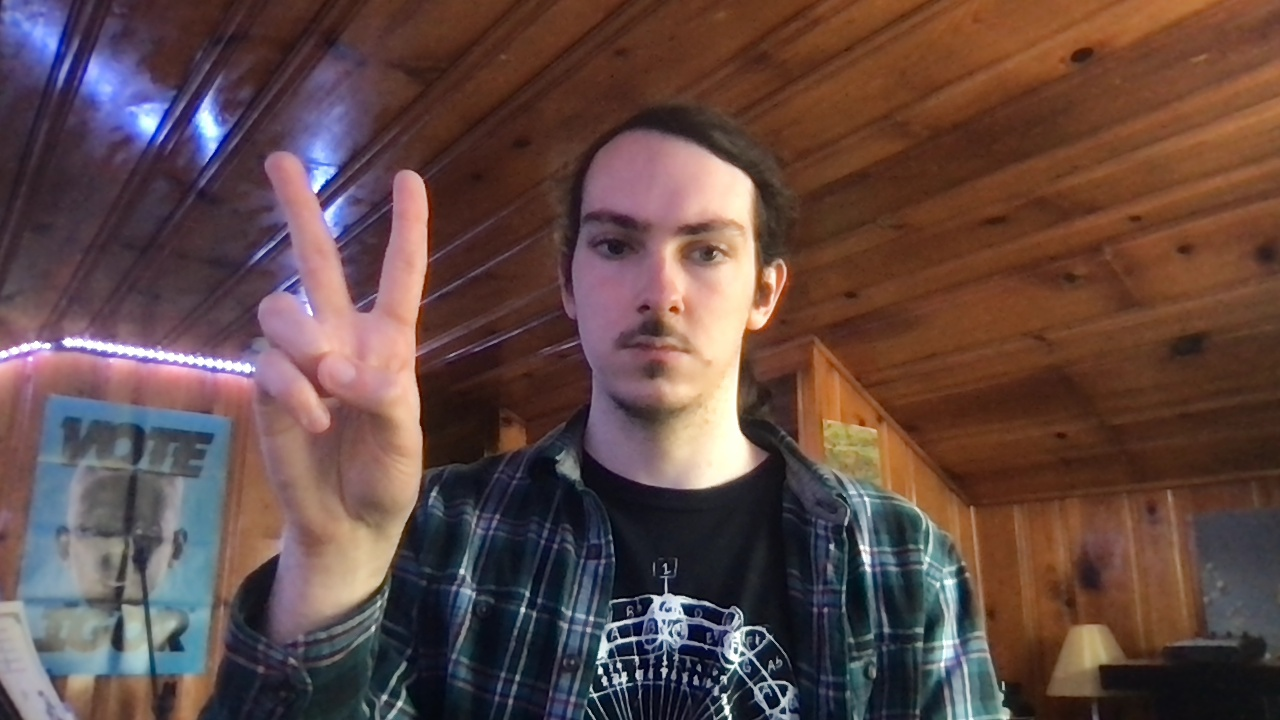v: (250, 149, 429, 551)
